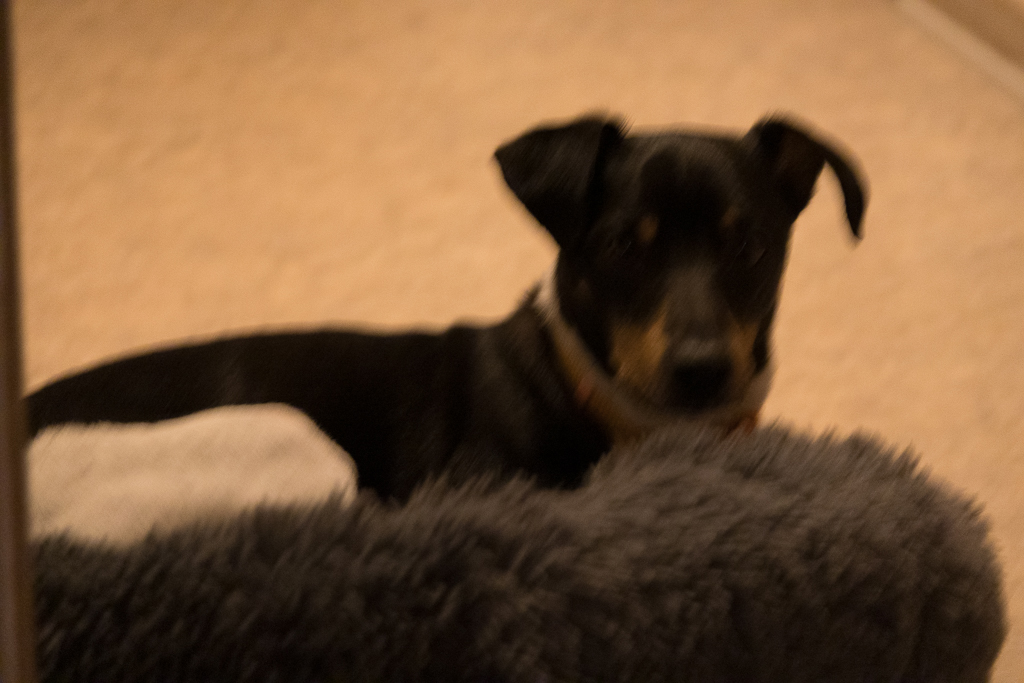Dog: (21, 101, 882, 559)
